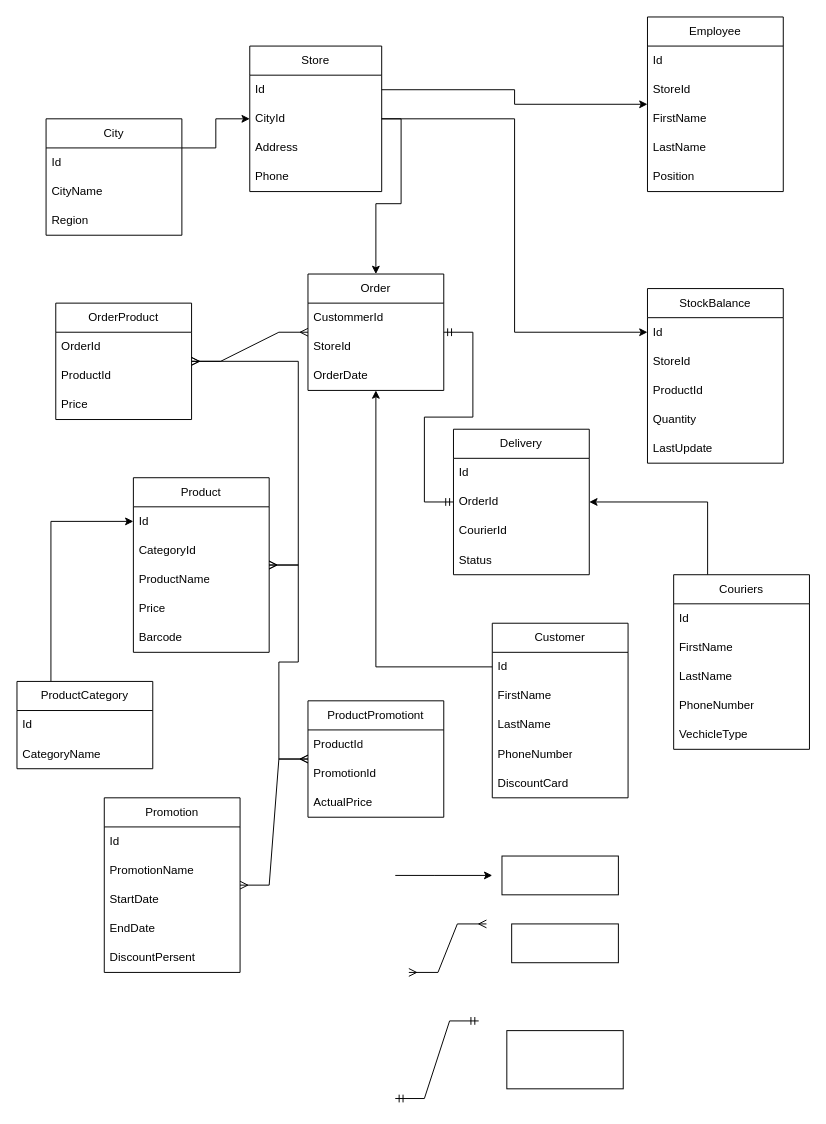
Image size: 826x1124. Some labels were removed from this diagram. Each missing label, with the centre of its shape:
многие ко многим: pixel 564 943
один к одному: pixel 564 1059
один ко многим: pixel 559 875
